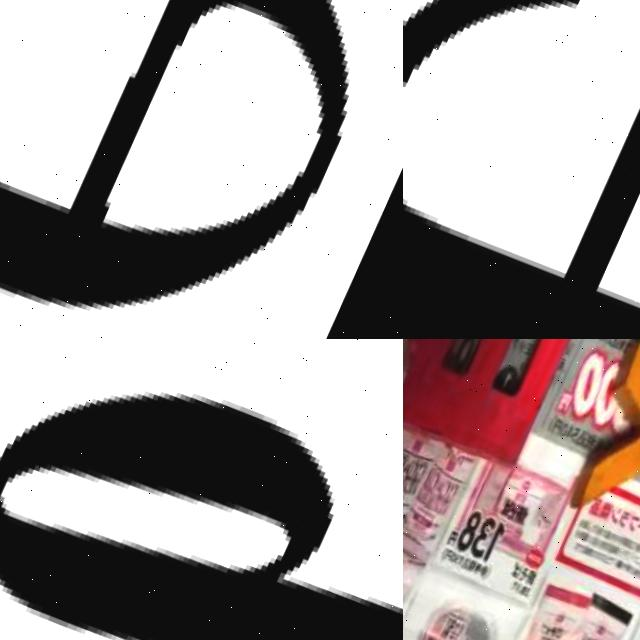B: (0, 398, 403, 640)
E: (0, 0, 350, 310), (403, 98, 640, 339), (403, 339, 592, 475)
X: (558, 339, 640, 548)
